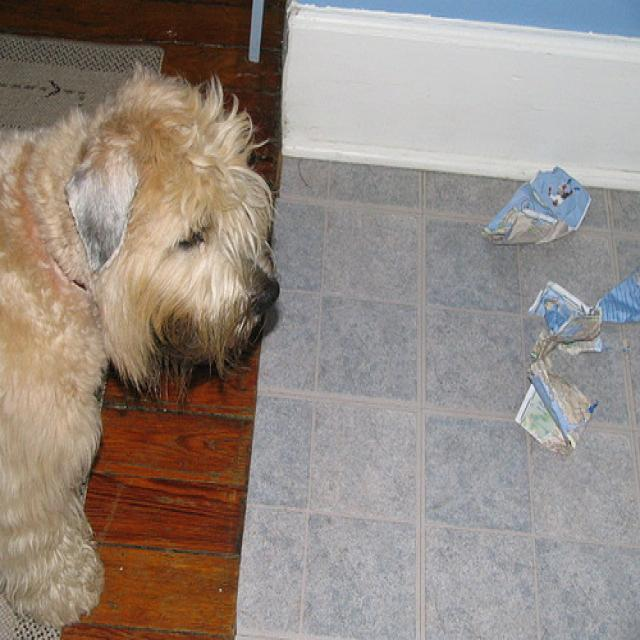dog: (64, 82, 276, 345)
